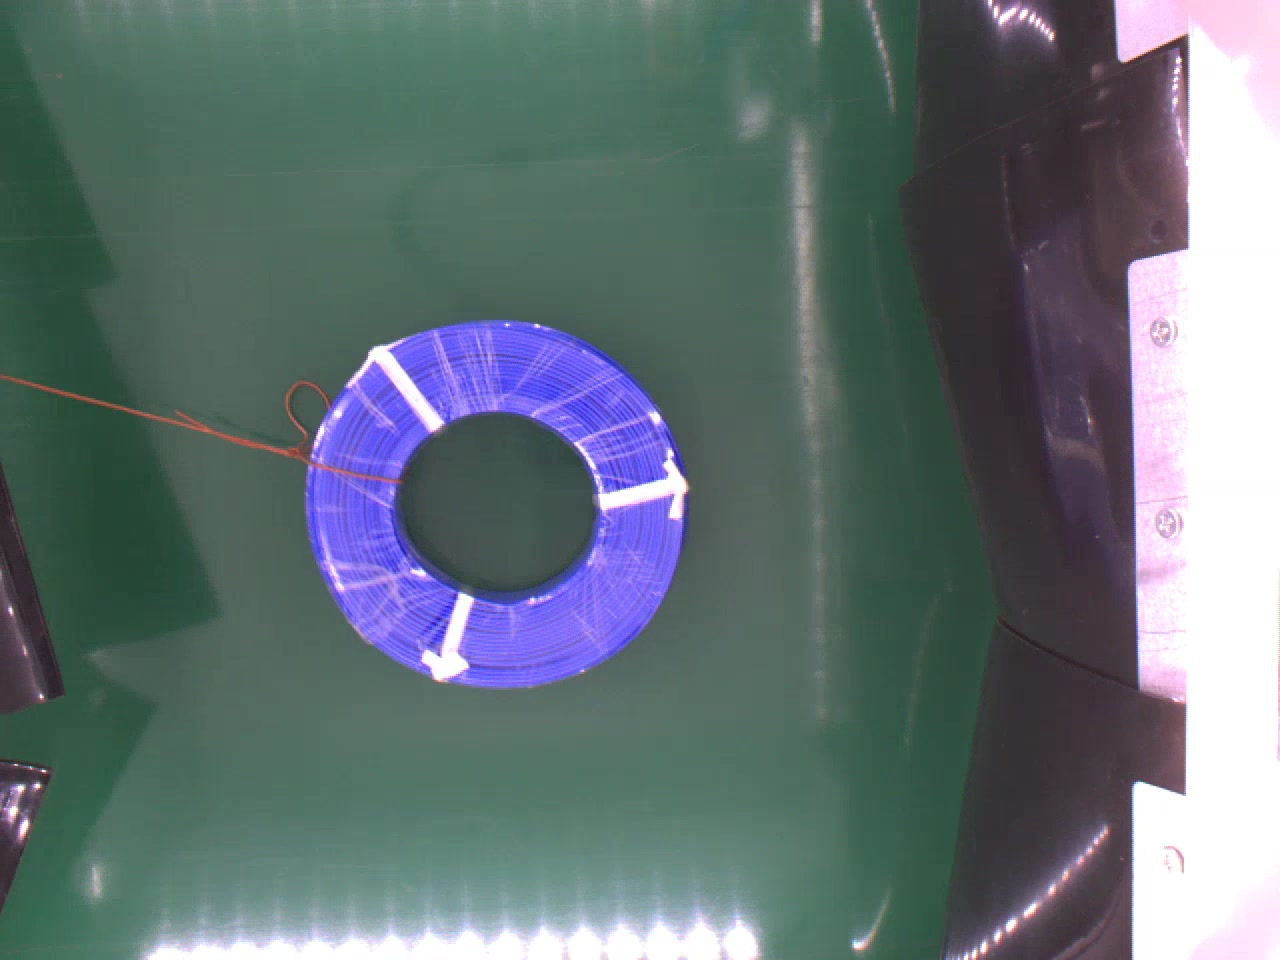blue: (306, 317, 686, 687)
